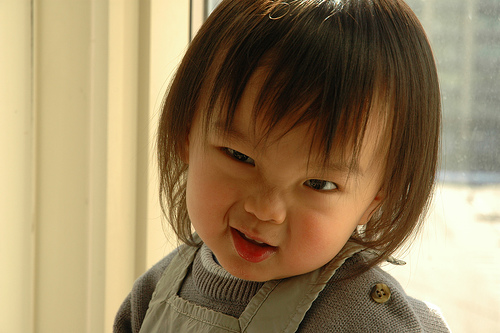without_mask: (161, 12, 419, 292)
